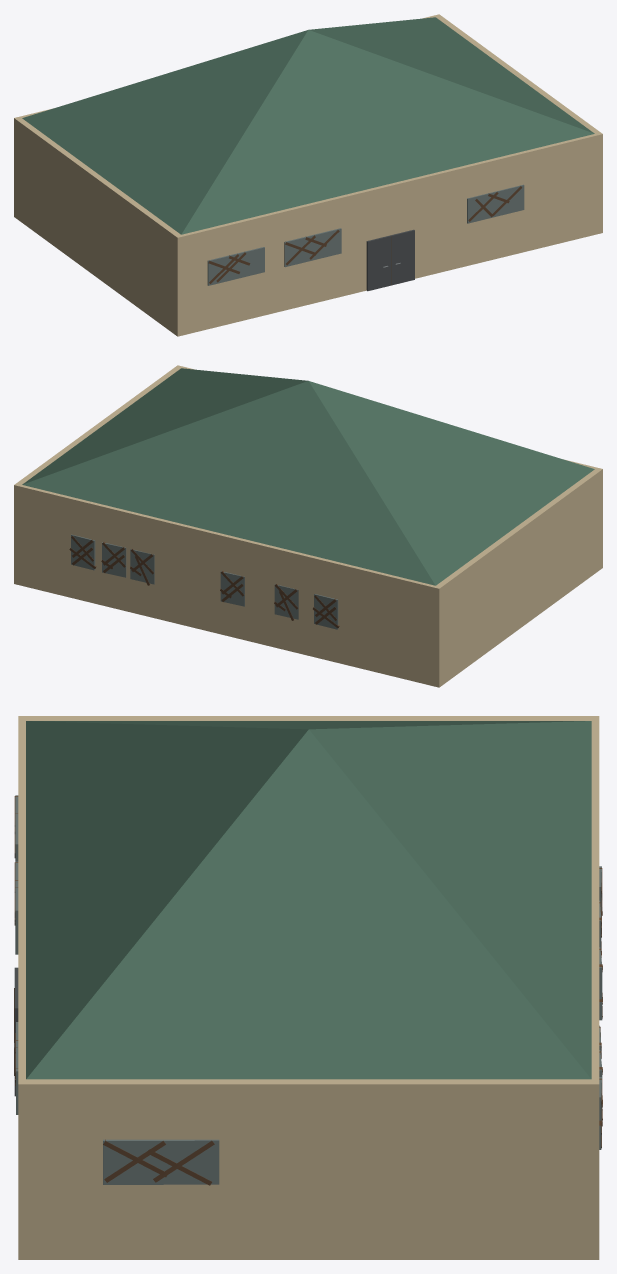
Rendered from supermarkVar2.glb.
3 renders of one model, top to bottom at view 1: azimuth 30°, elevation 25°; view 2: azimuth 150°, elevation 25°; view 3: azimuth 270°, elevation 25°, orthographic. The views are drawn at different scales.
Visible parts, largest first — view 1: supermarkt; view 2: supermarkt; view 3: supermarkt.
Part boxes in pixels (x1,y1,x2,y2): supermarkt: (14,14,602,336); supermarkt: (14,365,602,687); supermarkt: (14,716,602,1259).
Size of the model in its own units: 18.08 by 7.89 by 12.16.
